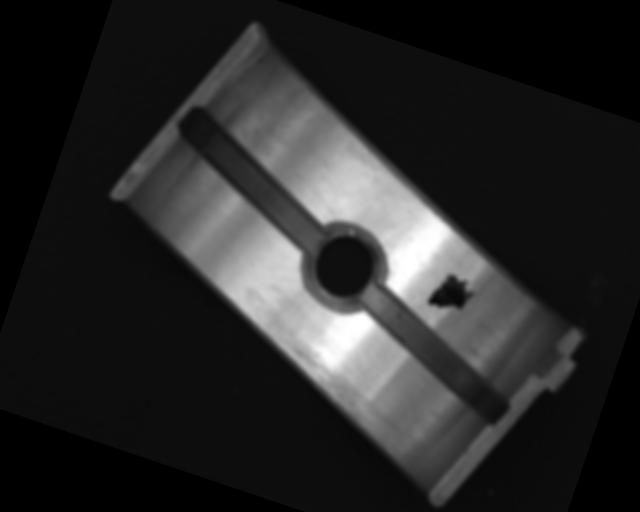blot: (425, 268, 481, 320)
gap: (156, 105, 348, 255), (337, 284, 530, 427)
hole: (291, 214, 395, 322)
scratch: (246, 332, 425, 458)
